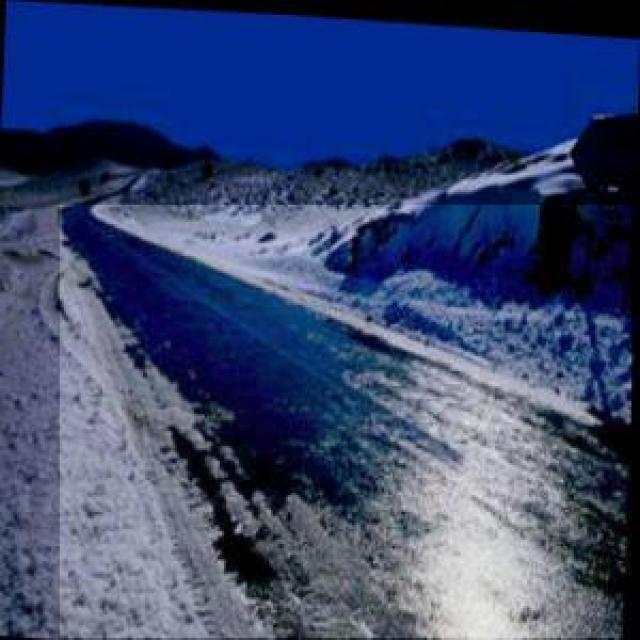ice-road: (60, 205, 631, 640)
